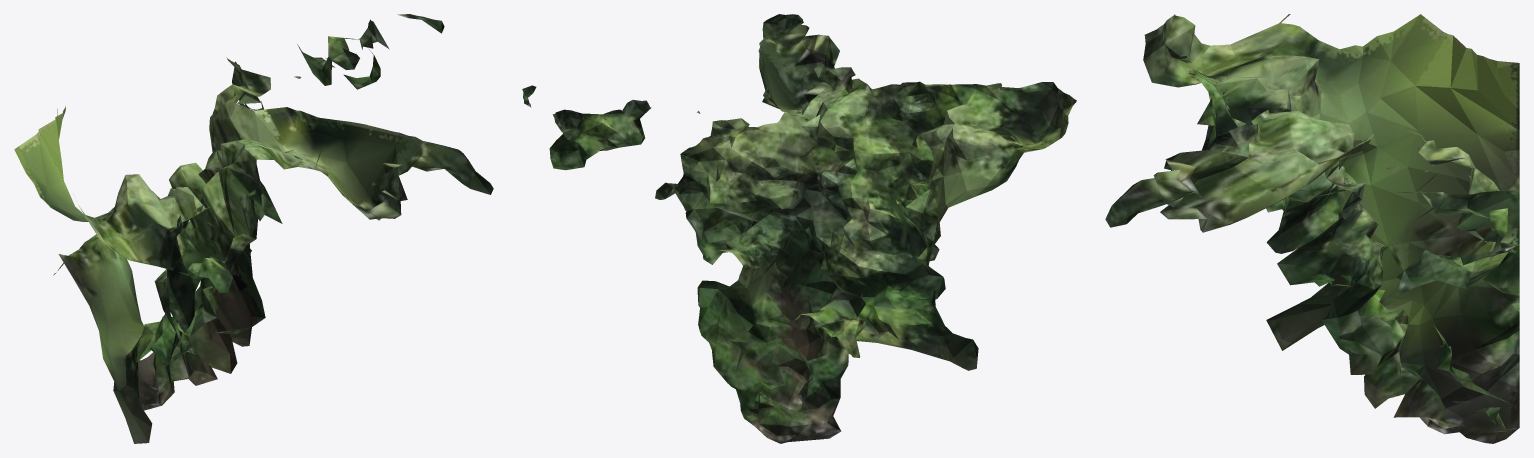
The picture shows the model from 3 angles, left to right: view 1: azimuth 30°, elevation 25°; view 2: azimuth 150°, elevation 25°; view 3: azimuth 270°, elevation 25°; orthographic projection. The views are drawn at different scales.
Bounding box in the file's own units: 52.02 × 33.17 × 36.92.
3 materials, 3 textured.
